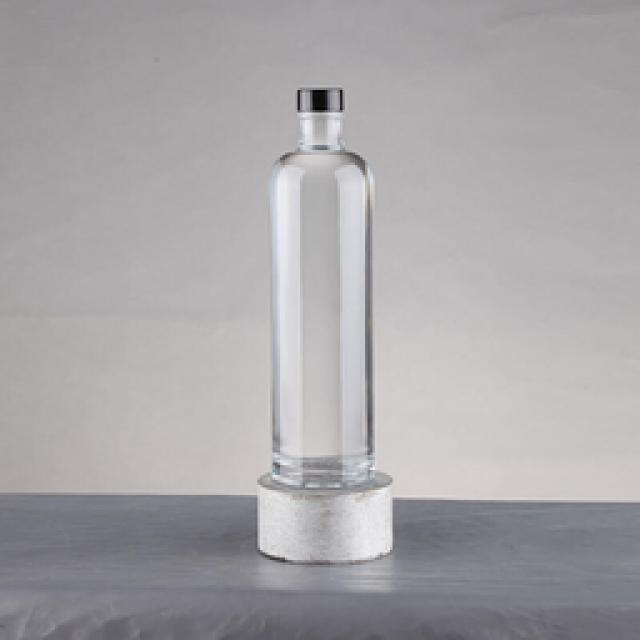glass_beverage_bottles: (272, 87, 378, 500)
